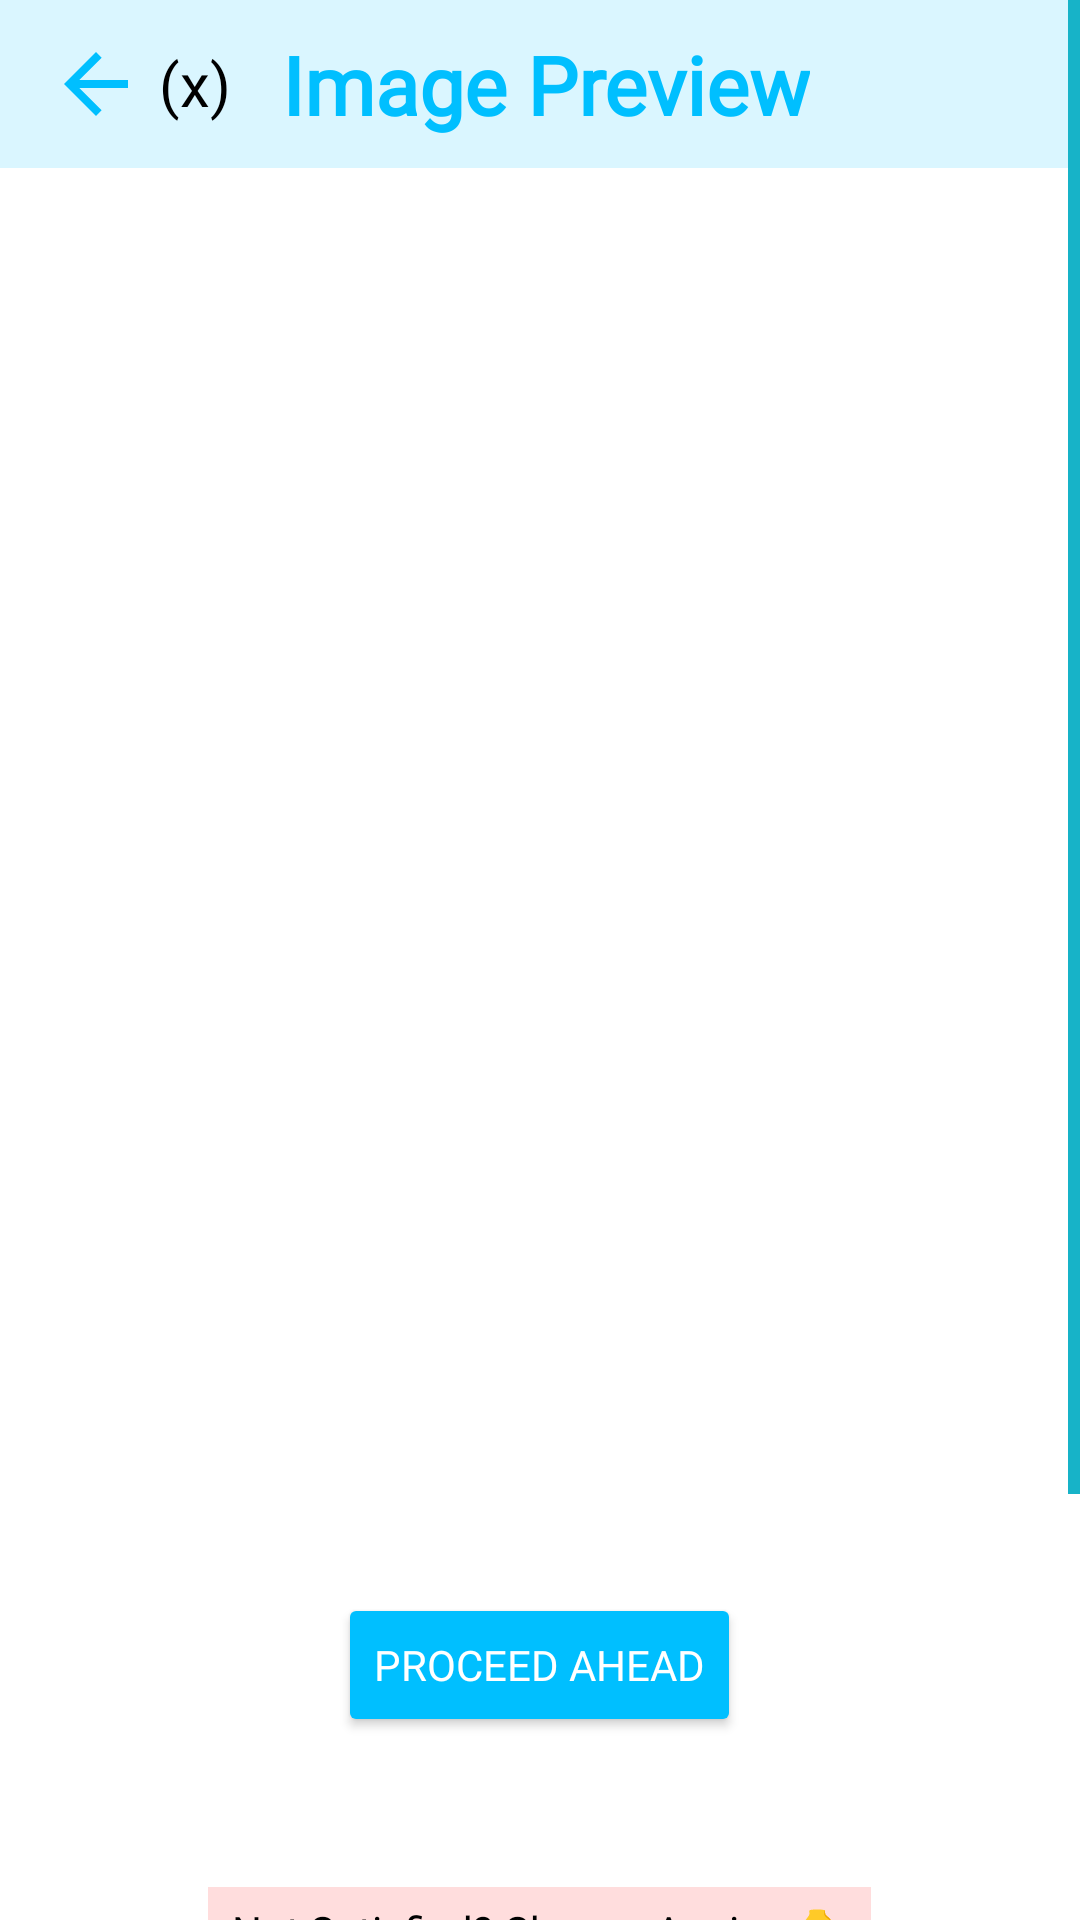

Named icons in this screenshot (1080×1920) and their centers, point (x, y):
back arrow: point (96, 84)
